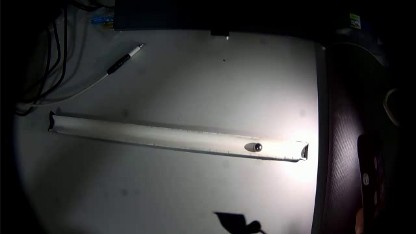gangzhu: (254, 141, 262, 151)
